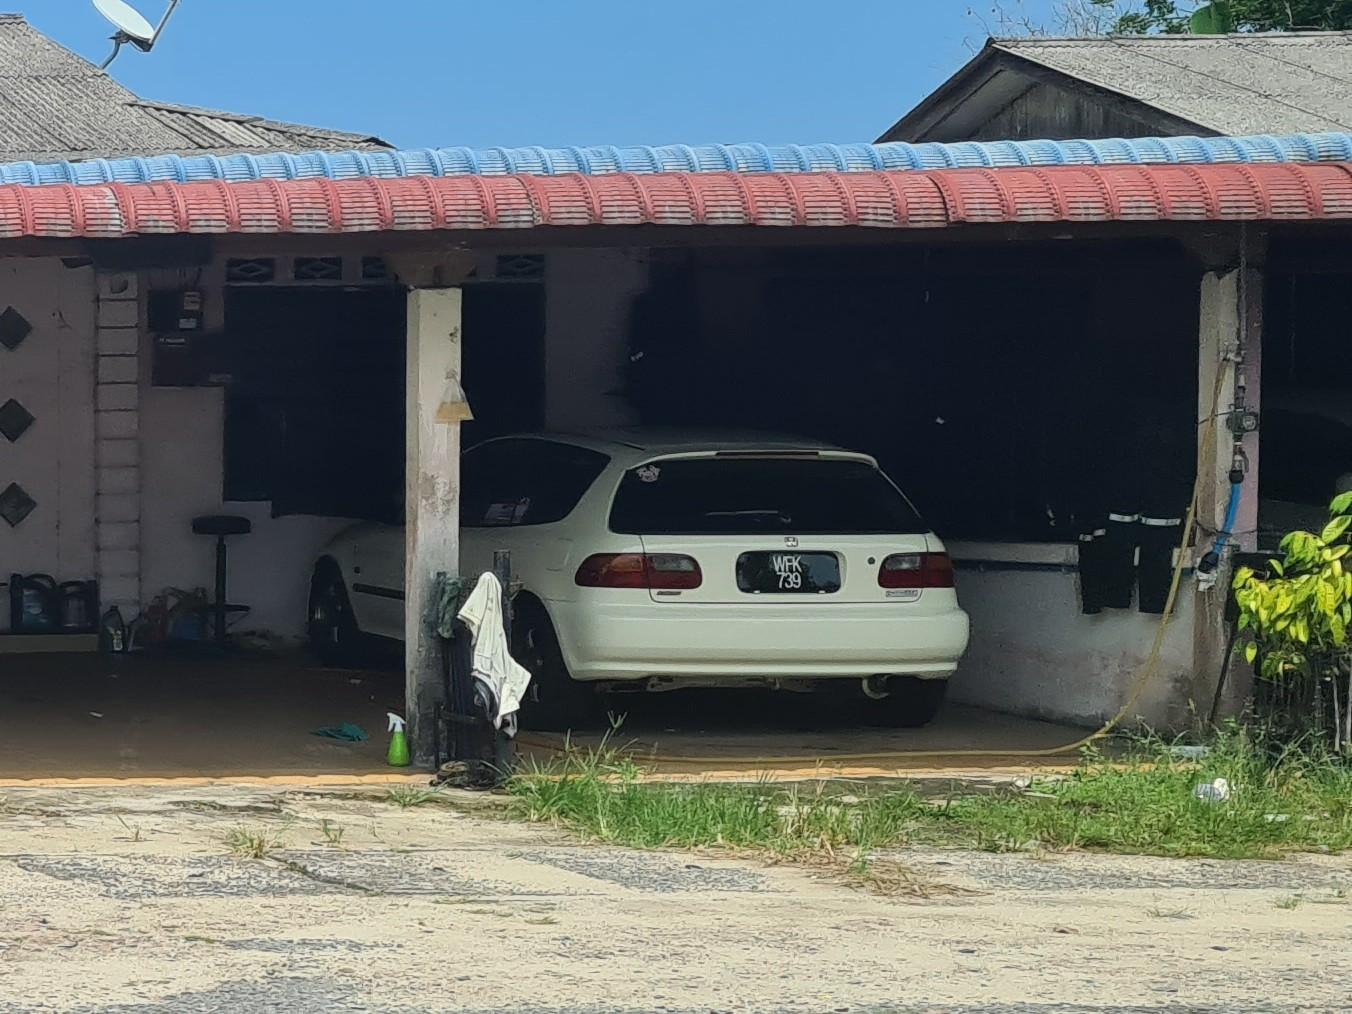License Plate: (746, 554, 838, 594)
